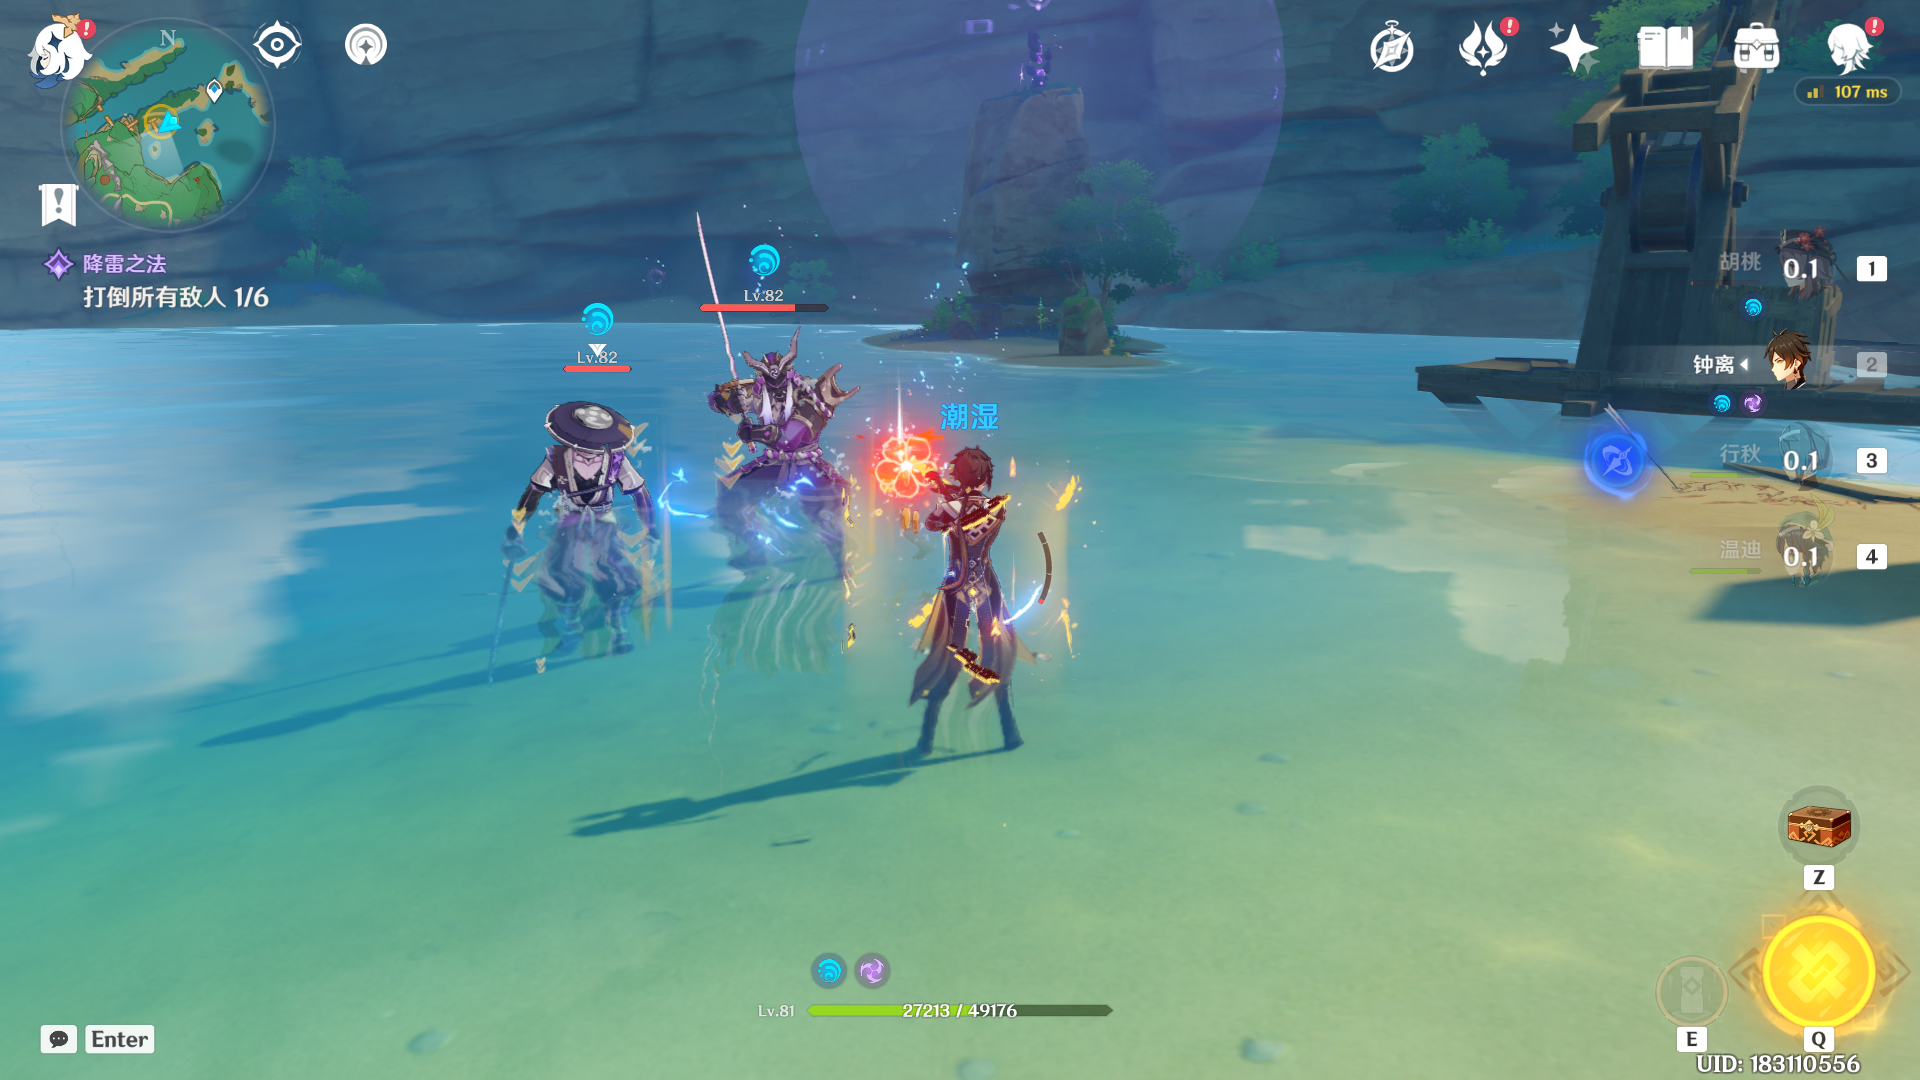character: (865, 407, 1076, 828)
samurai: (458, 380, 676, 699), (676, 307, 887, 591)
